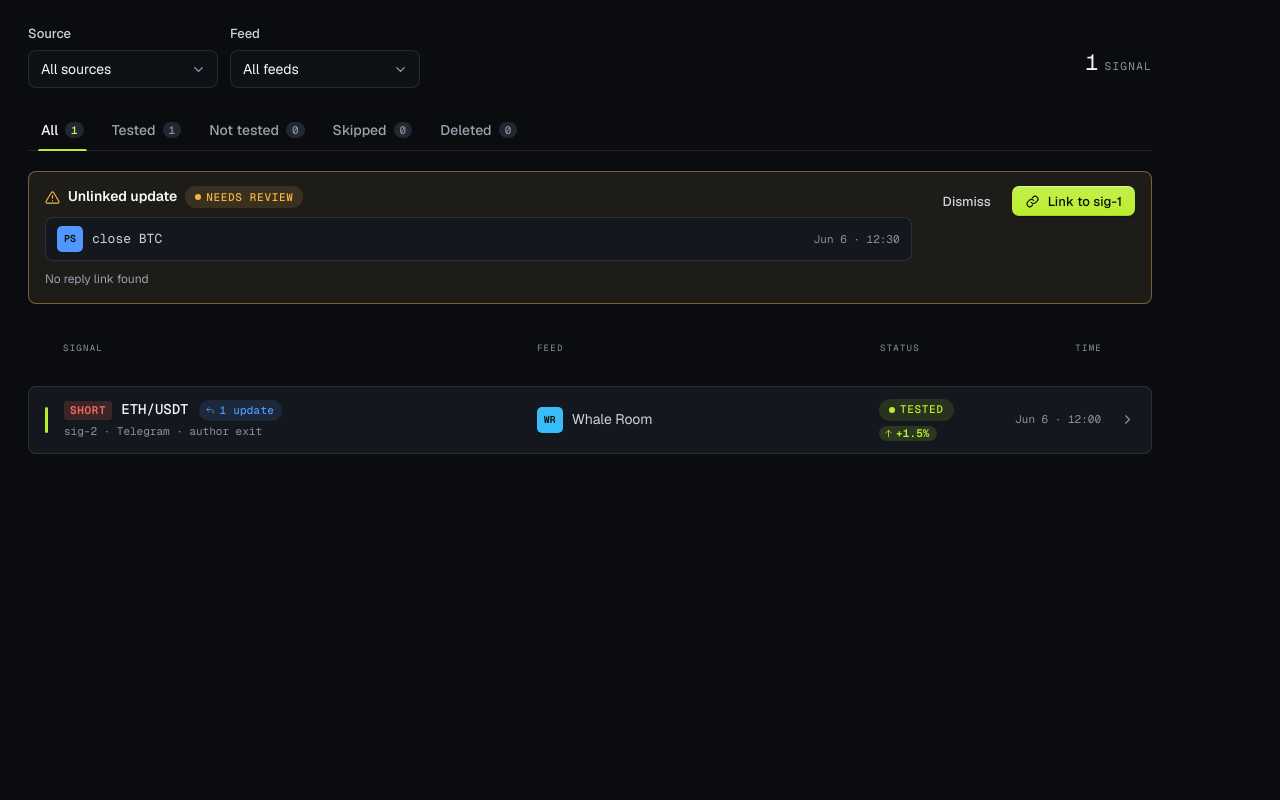
SignalsView › shows an author-closed tested trade as tested with its position timeline
Click the button "ETH/USDT" at (590, 420), box [28,386,1152,454]
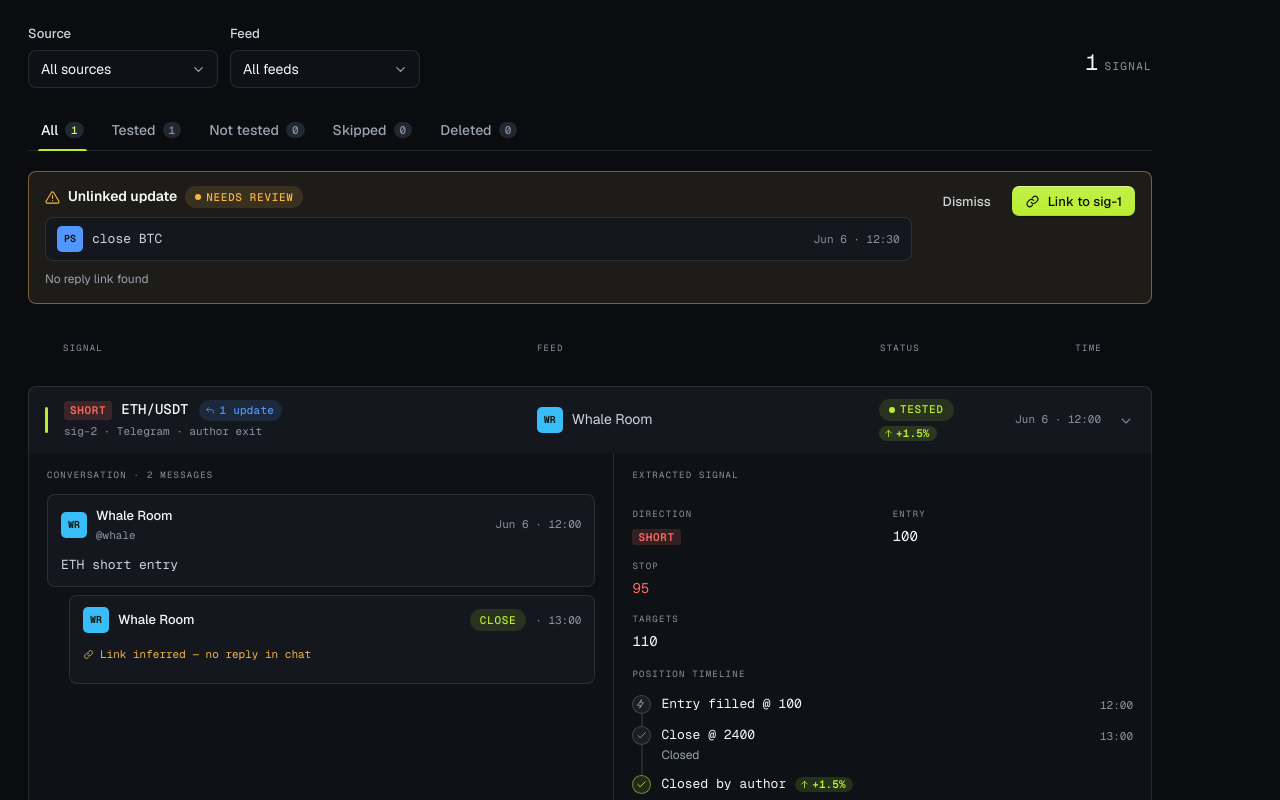
Result: the text "Position timeline" is shown at [632,668,746,680]
Result: the text "Closed by author" is shown at [661,775,786,792]
